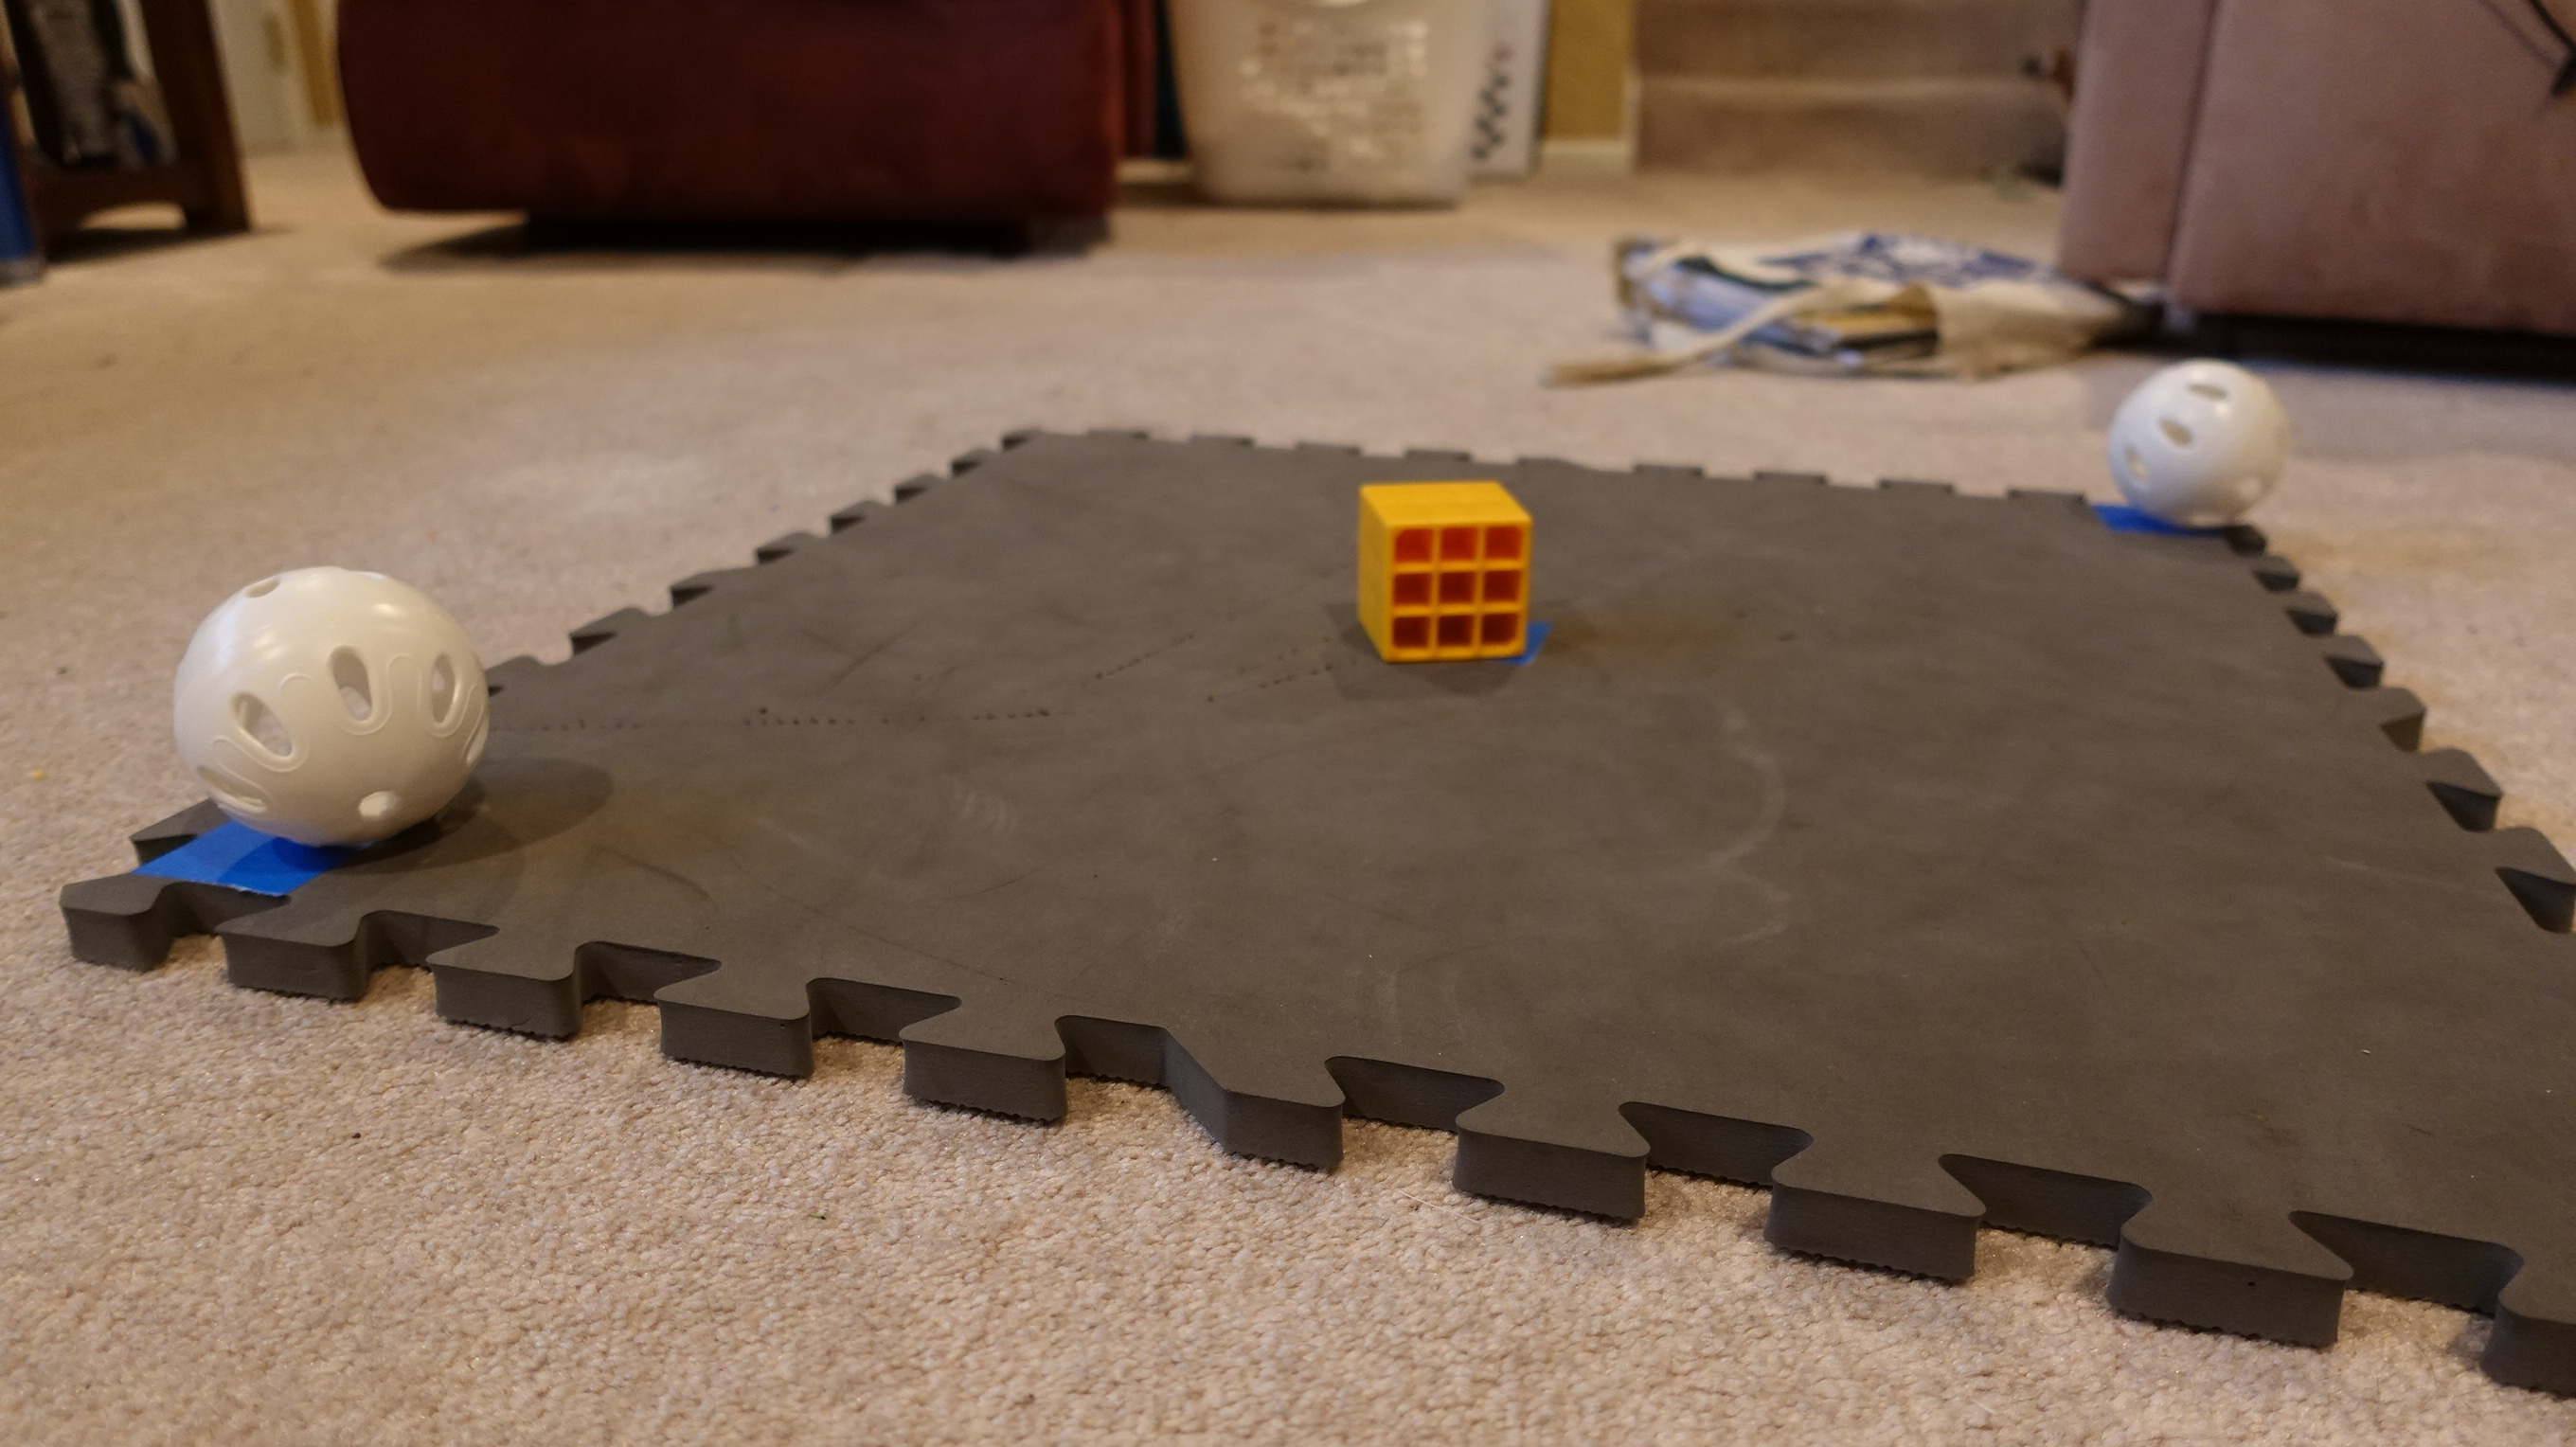gold: (1346, 469, 1539, 670)
silver: (166, 561, 499, 849), (2100, 343, 2296, 540)
